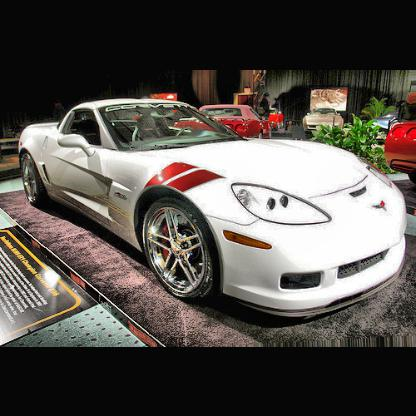Chevrolet Corvette Ron Fellows Edition Z06 2007: (17, 96, 409, 324)
